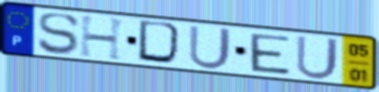D: (135, 18, 187, 67)
E: (248, 32, 293, 77)
H: (78, 14, 129, 63)
S: (36, 12, 82, 56)
U: (186, 23, 234, 71), (294, 33, 341, 81)
